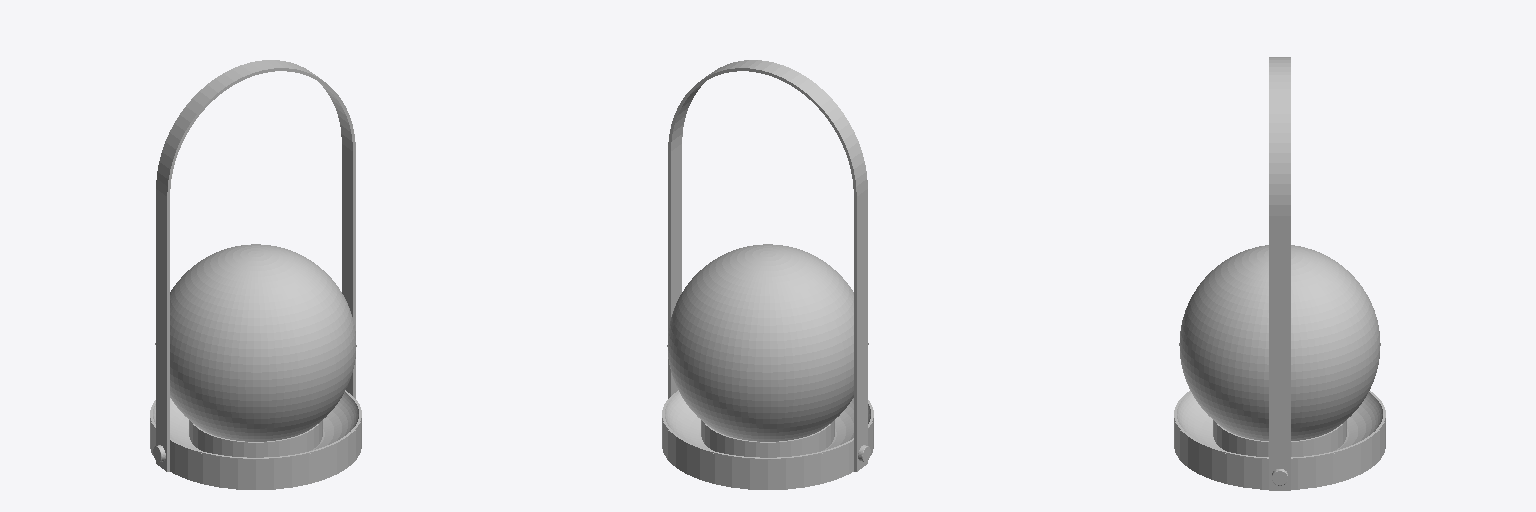
3 renders of one model, left to right at view 1: azimuth 30°, elevation 25°; view 2: azimuth 150°, elevation 25°; view 3: azimuth 270°, elevation 25°, orthographic.
Visible parts, largest first — view 1: Cam, Tutamaç, Dış_Sıvama, İç_Sıvama, Cam_Arkası; view 2: Cam, Tutamaç, Dış_Sıvama, İç_Sıvama, Cam_Arkası; view 3: Cam, Tutamaç, Dış_Sıvama, İç_Sıvama, Cam_Arkası.
Part boxes in pixels (left/top/right/bottom): Cam: left=155, top=244, right=356, bottom=441; Tutamaç: left=156, top=60, right=355, bottom=471; Dış_Sıvama: left=150, top=419, right=361, bottom=489; İç_Sıvama: left=150, top=390, right=361, bottom=459; Cam_Arkası: left=189, top=420, right=322, bottom=457; Cam: left=667, top=244, right=868, bottom=441; Tutamaç: left=668, top=60, right=867, bottom=471; Dış_Sıvama: left=662, top=419, right=873, bottom=489; İç_Sıvama: left=662, top=390, right=873, bottom=459; Cam_Arkası: left=701, top=420, right=834, bottom=457; Cam: left=1179, top=245, right=1380, bottom=440; Tutamaç: left=1269, top=57, right=1290, bottom=490; Dış_Sıvama: left=1174, top=419, right=1385, bottom=489; İç_Sıvama: left=1174, top=391, right=1385, bottom=459; Cam_Arkası: left=1213, top=420, right=1346, bottom=456.
Size of the model in its own units: 20.44 by 37.42 by 19.